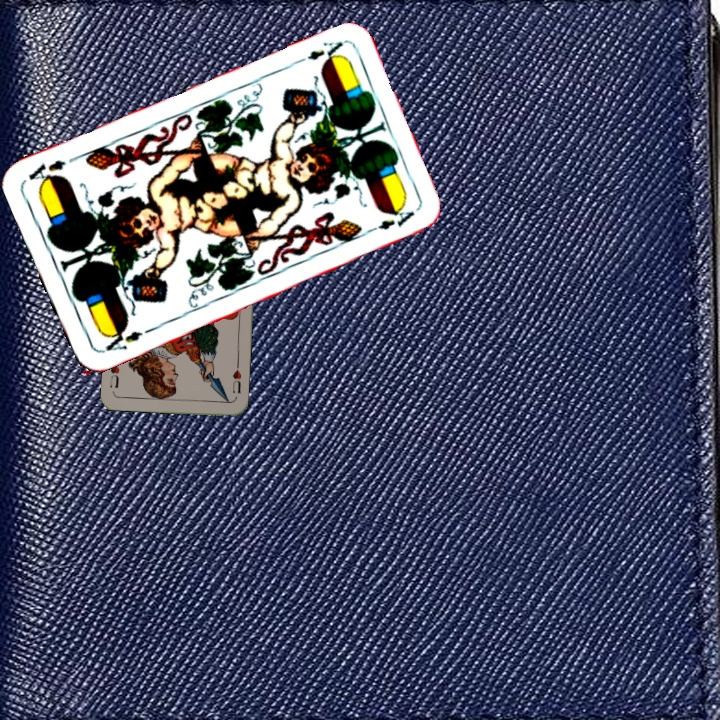EA: (290, 37, 346, 68), (97, 323, 145, 356)
HU: (228, 360, 244, 396)
